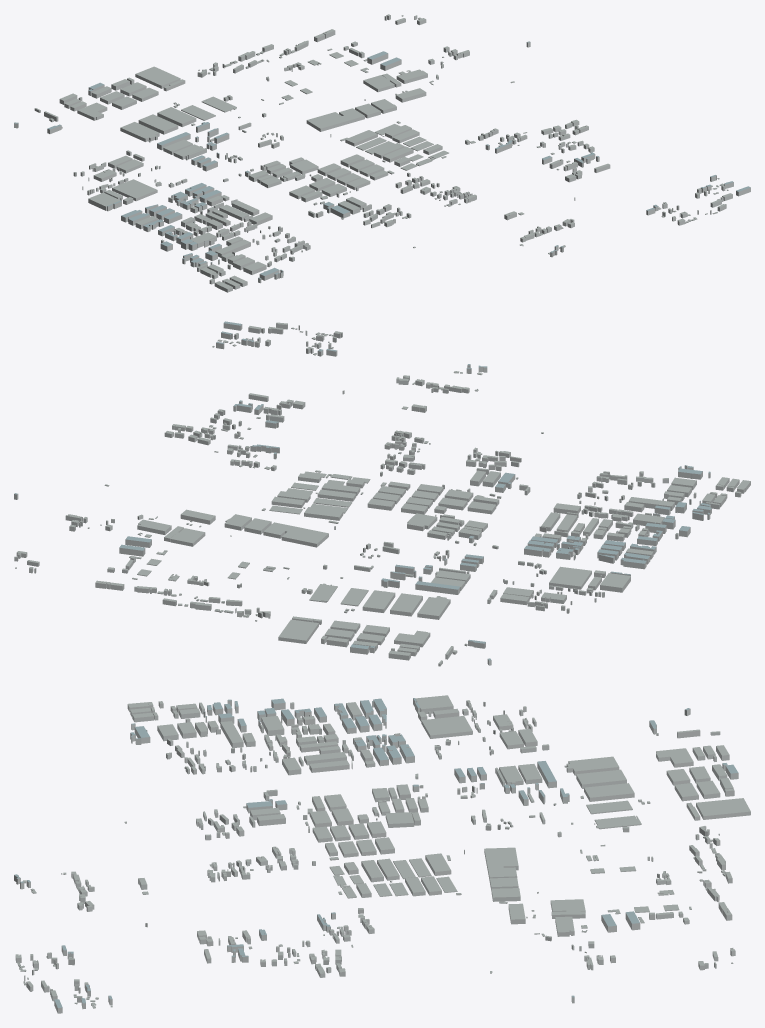
Rendered from far.glb.
3 renders of one model, top to bottom at view 1: azimuth 30°, elevation 25°; view 2: azimuth 150°, elevation 25°; view 3: azimuth 270°, elevation 25°, orthographic. The views are drawn at different scales.
Size of the model in its own units: 2163 by 23.9 by 2152.
